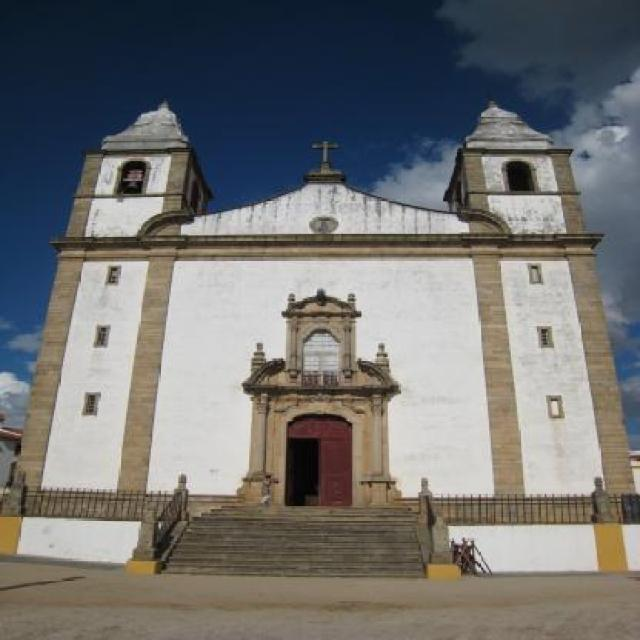stair: (154, 502, 432, 582)
